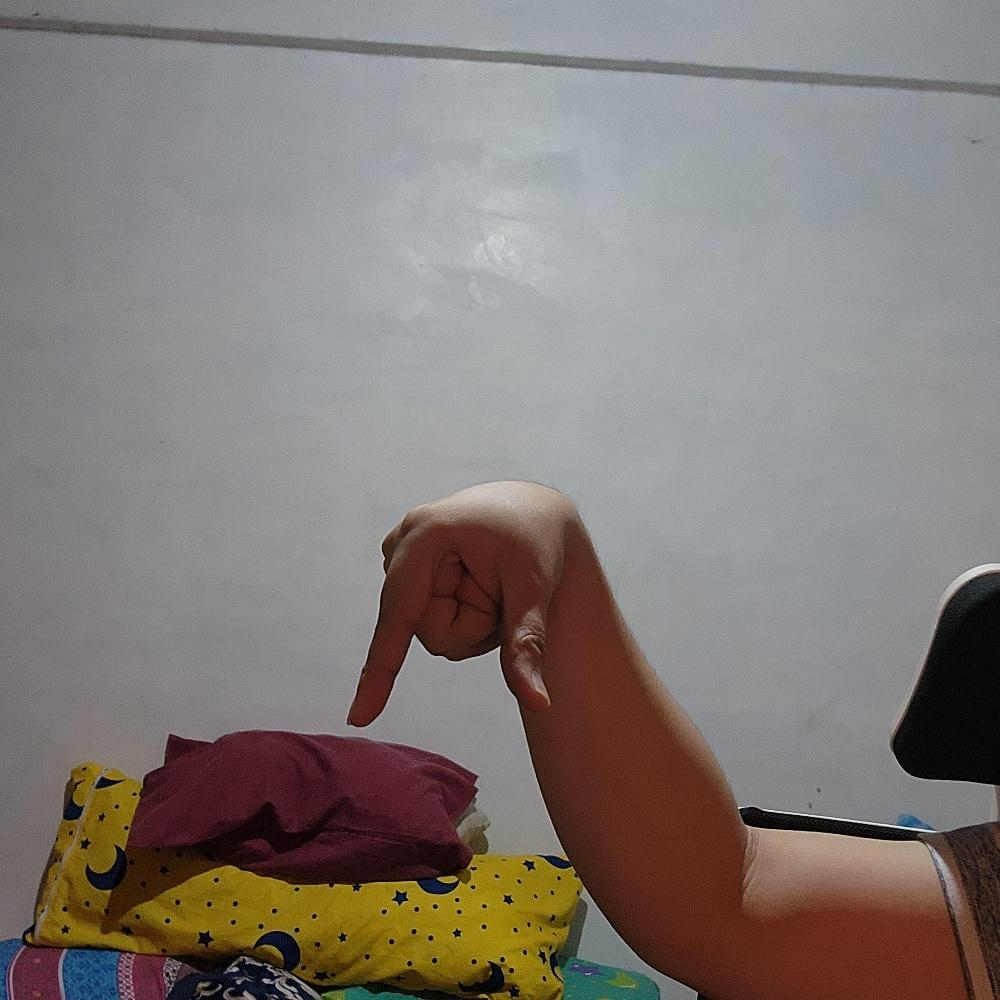q: (346, 478, 570, 728)
